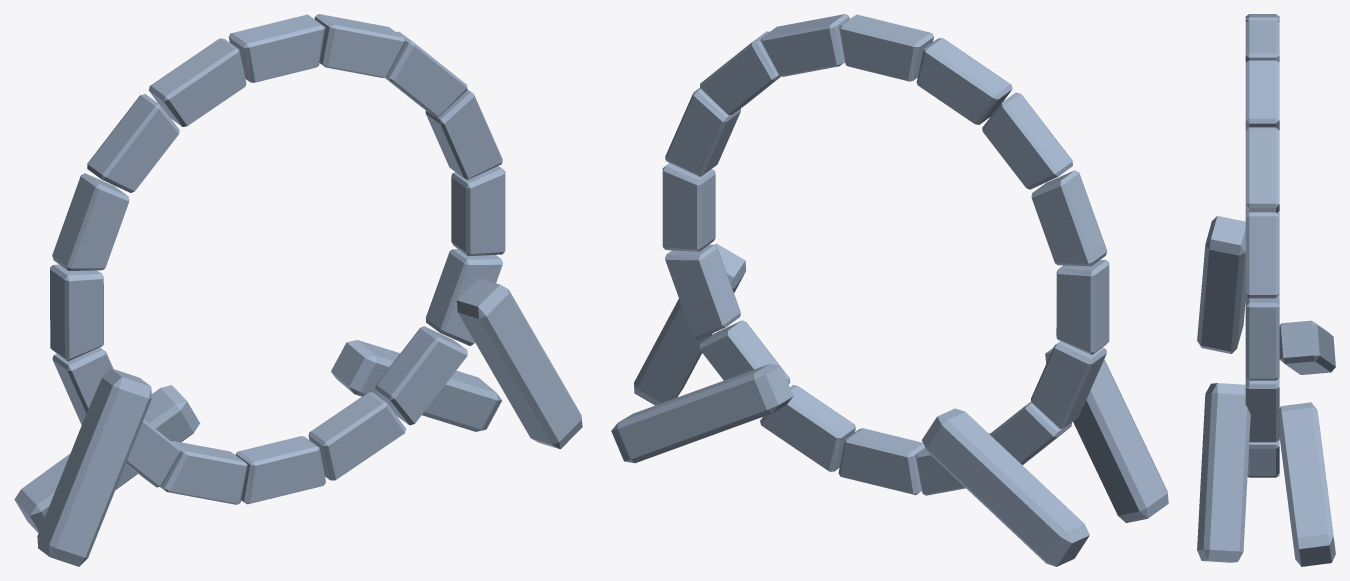
Rendered from portal.obj.
3 views of the same model, side by side, from view 1: azimuth 30°, elevation 25°; view 2: azimuth 150°, elevation 25°; view 3: azimuth 270°, elevation 25° (orthographic). The views are drawn at different scales.
Visible parts, largest first — view 1: Cube.001_Cube.009; view 2: Cube.001_Cube.009; view 3: Cube.001_Cube.009.
Part boxes in pixels (x1,y1,x2,y2): Cube.001_Cube.009: [14, 14, 582, 566]; Cube.001_Cube.009: [611, 14, 1168, 566]; Cube.001_Cube.009: [1197, 14, 1335, 566].
Bounding box in the file's own units: 4.23 × 3.59 × 1.05.
